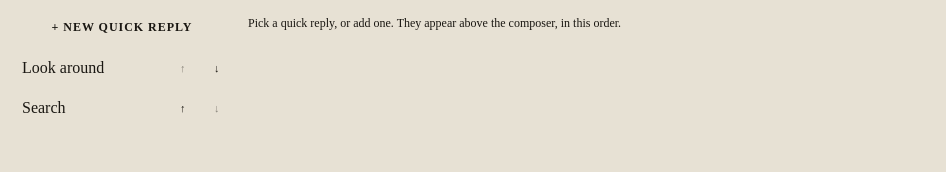
Test: a roll's view shows its notation
Click the button "Search". click: [88, 108]
box: [12,91,164,125]
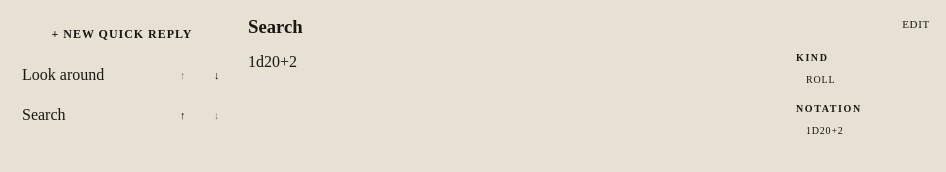
expect the text "1d20+2" below "Notation" is shown: met, box [806,125,844,136]
